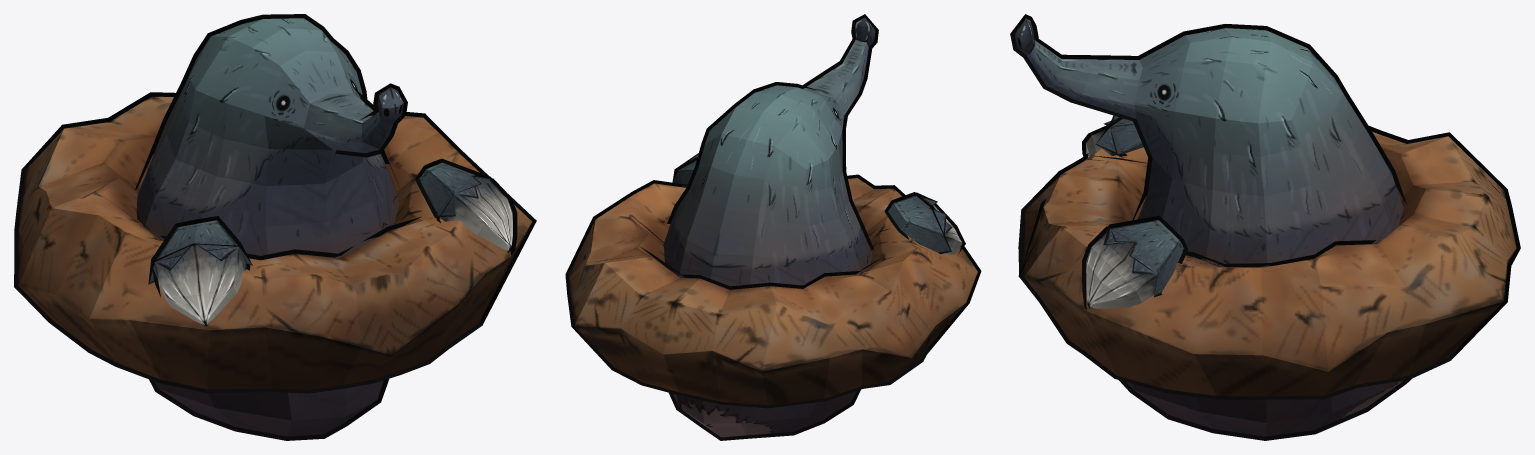
The model's file is Mole.fbx.
The picture shows the model from 3 angles, left to right: view 1: azimuth 30°, elevation 25°; view 2: azimuth 150°, elevation 25°; view 3: azimuth 270°, elevation 25°; orthographic projection. The views are drawn at different scales.
Visible parts, largest first — view 1: Agujero, Topo; view 2: Agujero, Topo; view 3: Agujero, Topo.
Part boxes in pixels (bbox=[...]): Agujero: bbox=[14, 92, 536, 393]; Topo: bbox=[135, 14, 517, 440]; Agujero: bbox=[565, 174, 981, 408]; Topo: bbox=[663, 14, 965, 440]; Agujero: bbox=[1018, 126, 1520, 399]; Topo: bbox=[1010, 14, 1411, 440].
Bounding box in the file's own units: 79.09 × 72.89 × 82.5.
2 materials, 1 textured.
